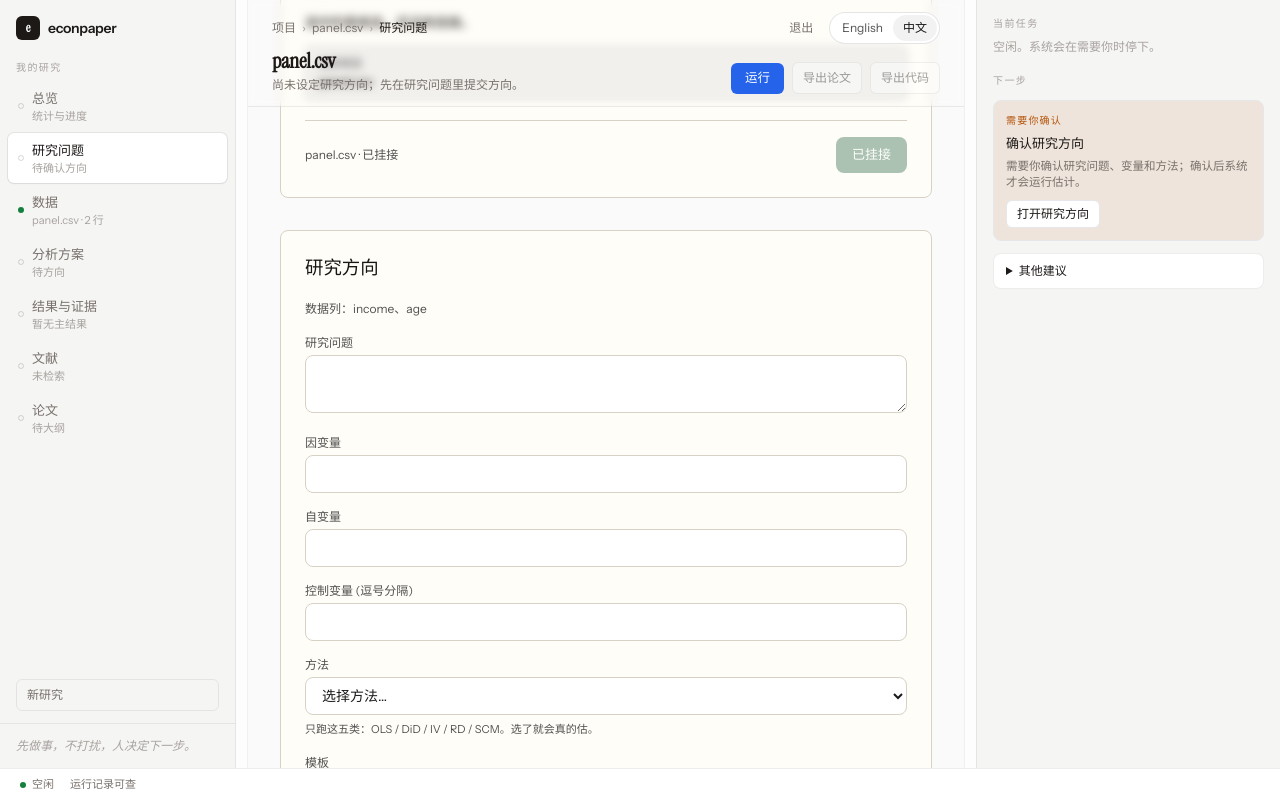
Test: DC-FE-gate App wiring › 409 upload_not_ready on direction returns to attach-confirm
The width and height of the screenshot is (1280, 800).
(page scrolled)
Expected: the form with test id "direction-form" is shown, x1=305 y1=299 x2=907 y2=768
Type "教育对收入的影响" into the text box labelled "研究问题" at {"x": 606, "y": 384}, box x1=305 y1=355 x2=907 y2=413
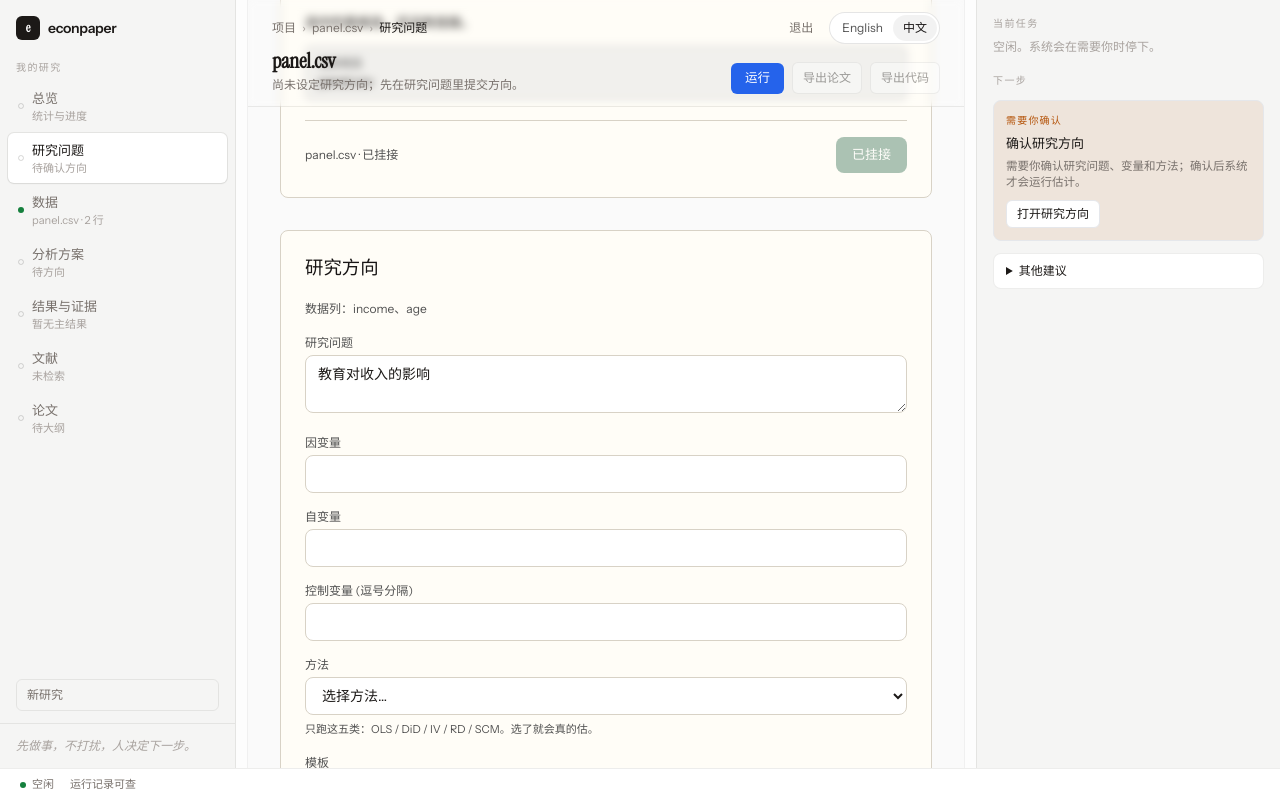
Type "income" into the field labelled "因变量" at {"x": 606, "y": 474}, box x1=305 y1=455 x2=907 y2=493
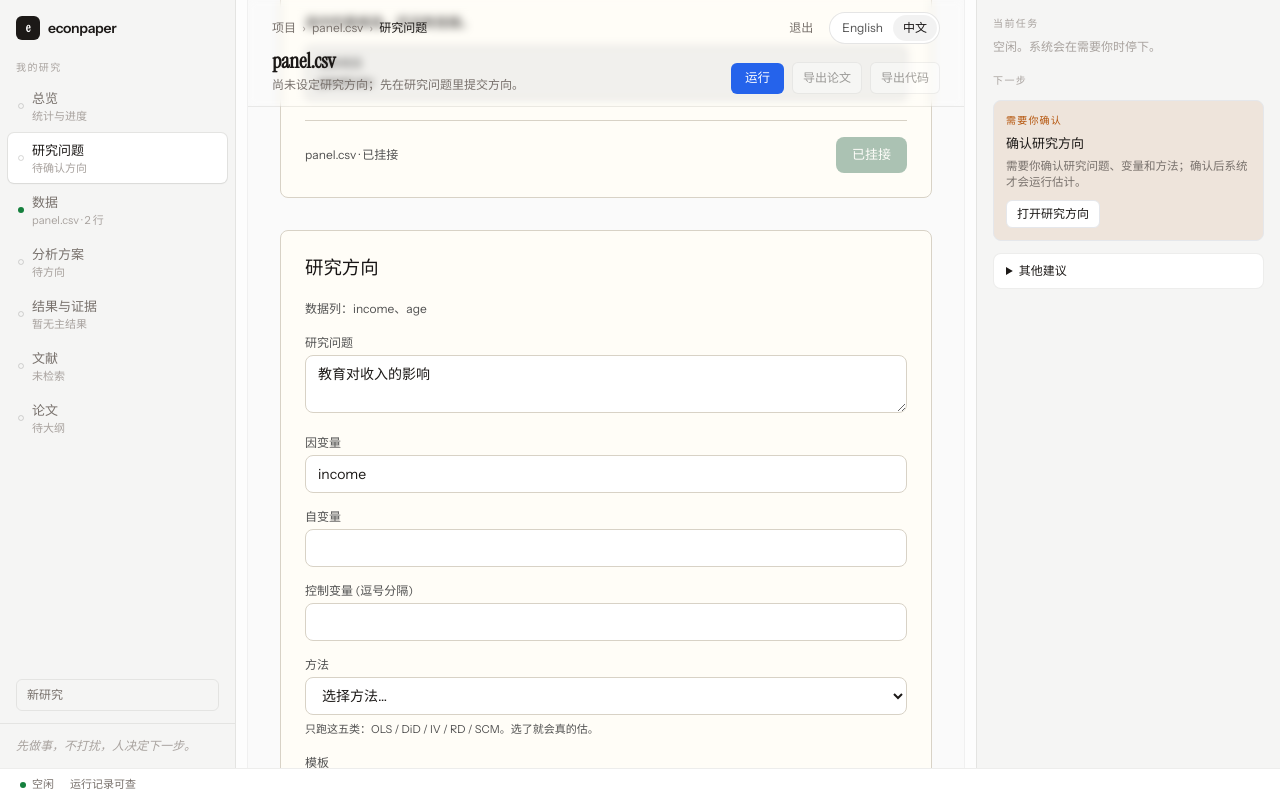
Type "age" into the field labelled "自变量" at {"x": 606, "y": 548}, box x1=305 y1=529 x2=907 y2=567
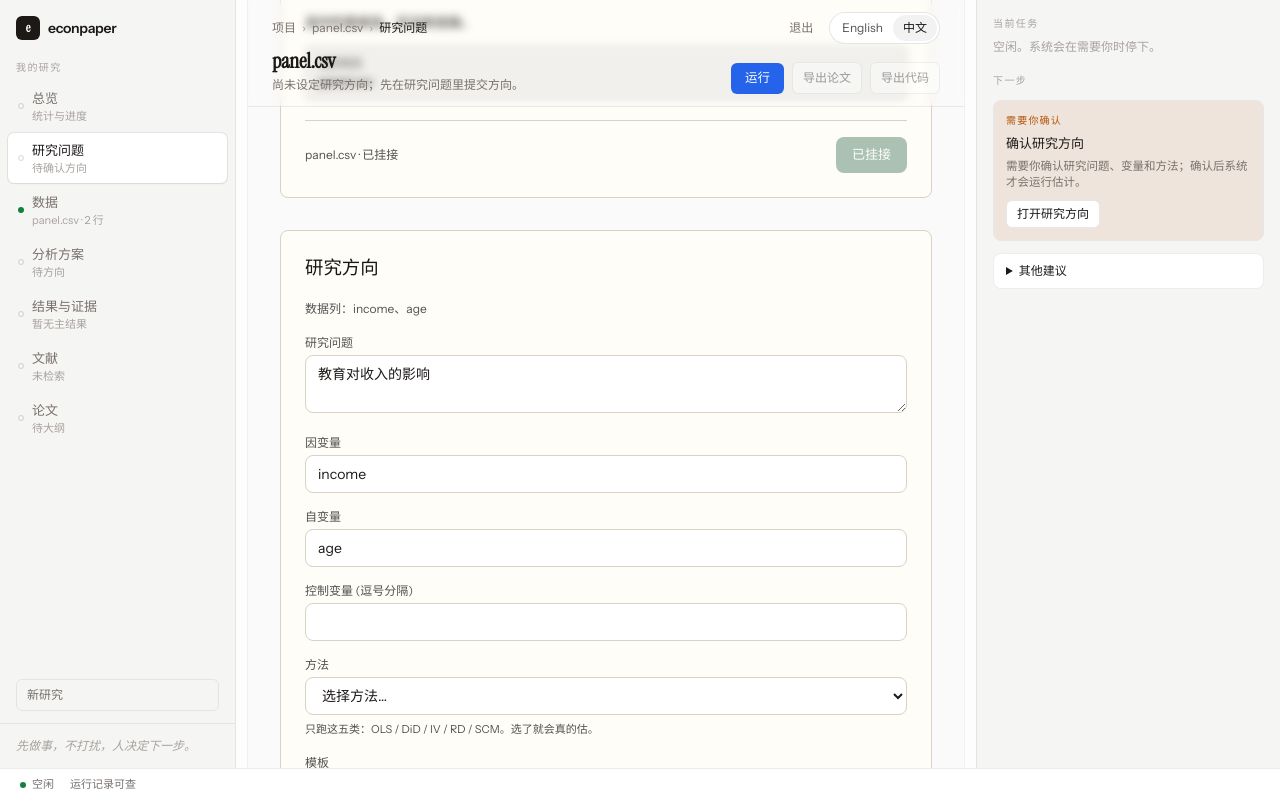
Select "OLS" in the dropdown named "方法" at {"x": 606, "y": 696}, box x1=305 y1=677 x2=907 y2=715
(page scrolled)
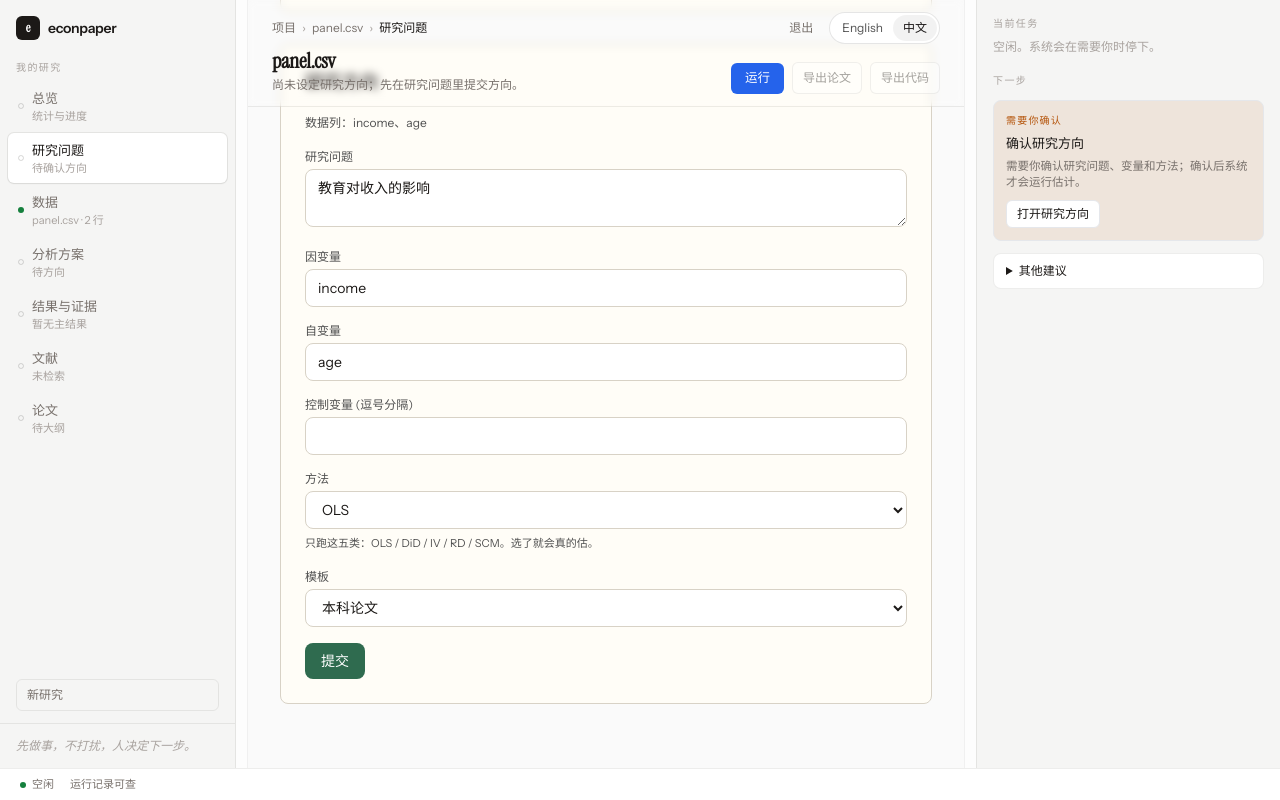
Submit the form with test id "direction-form", box x1=305 y1=113 x2=907 y2=679
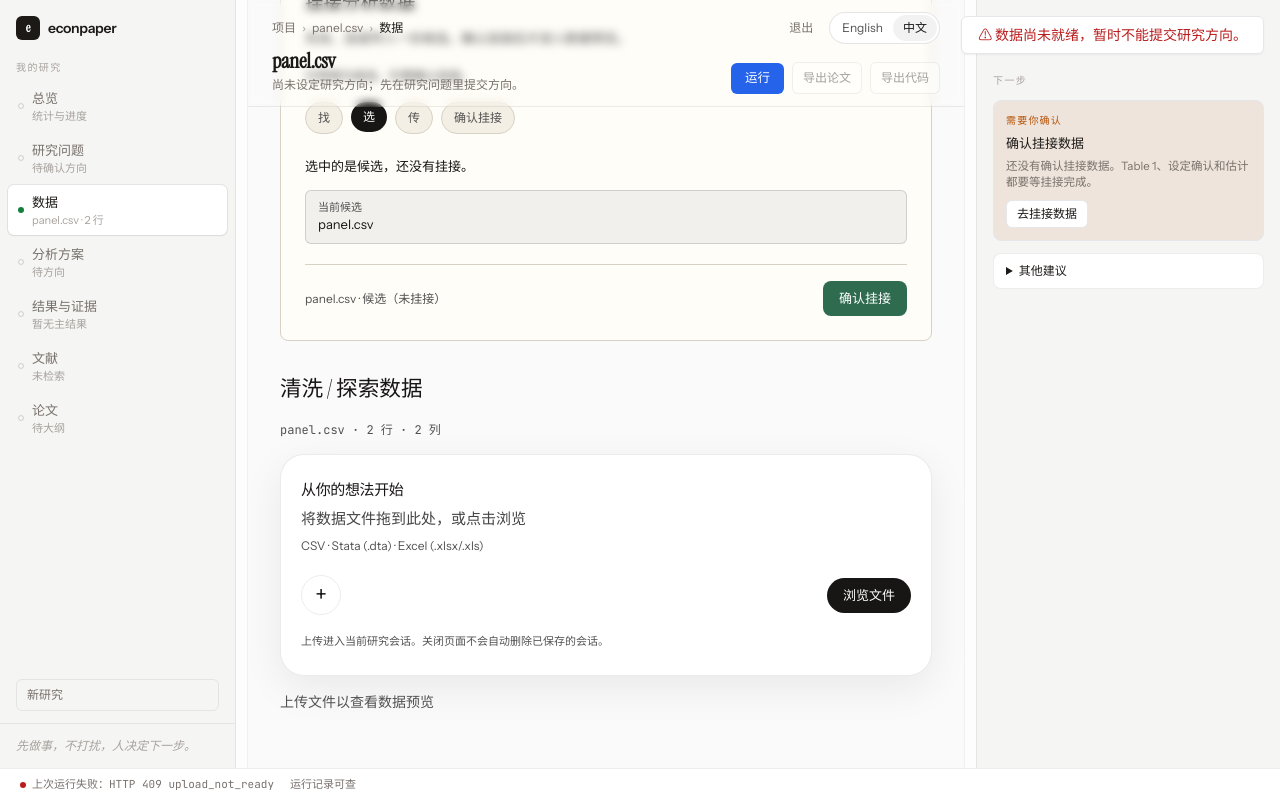
Now the text with test id "global-error-toast" shows "数据尚未就绪", box x1=995 y1=26 x2=1247 y2=44
Now the text "panel.csv · 2 行 · 2 列" is shown, box x1=280 y1=422 x2=441 y2=438
